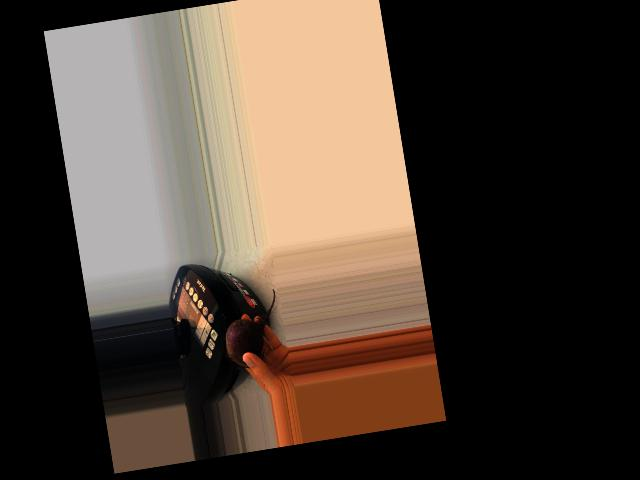beet: (216, 288, 285, 370)
